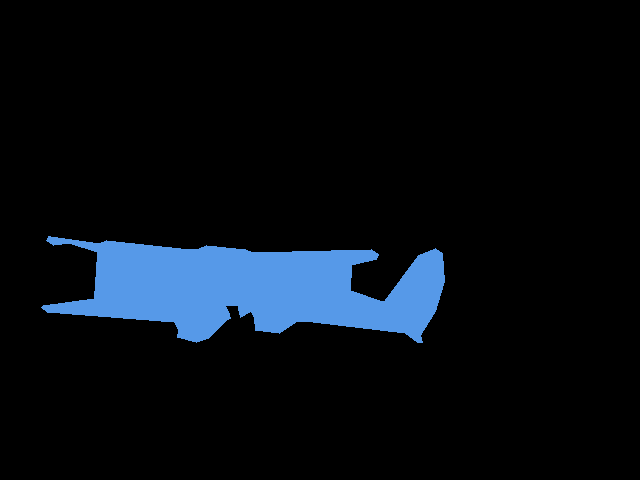Airplane: (41, 236, 444, 342)
